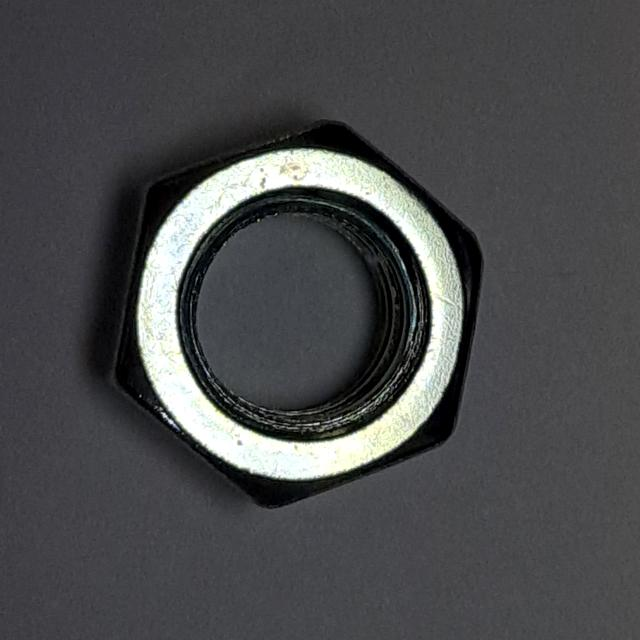Excellent: (85, 102, 496, 527)
